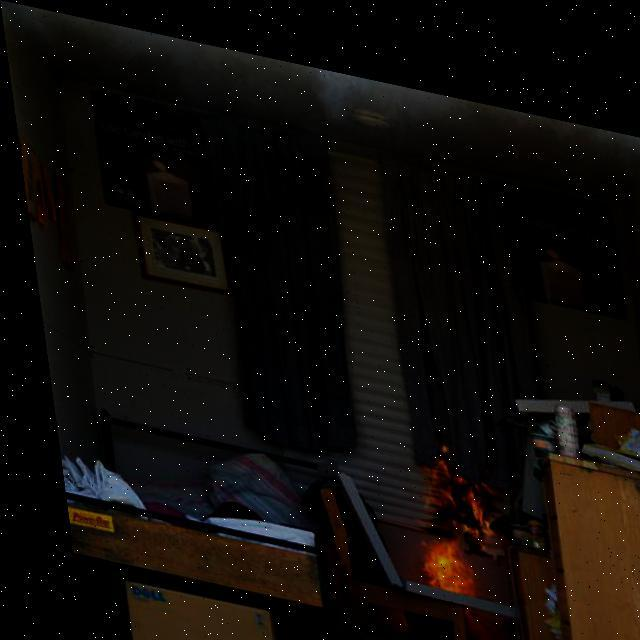Fire: (404, 519, 465, 581)
